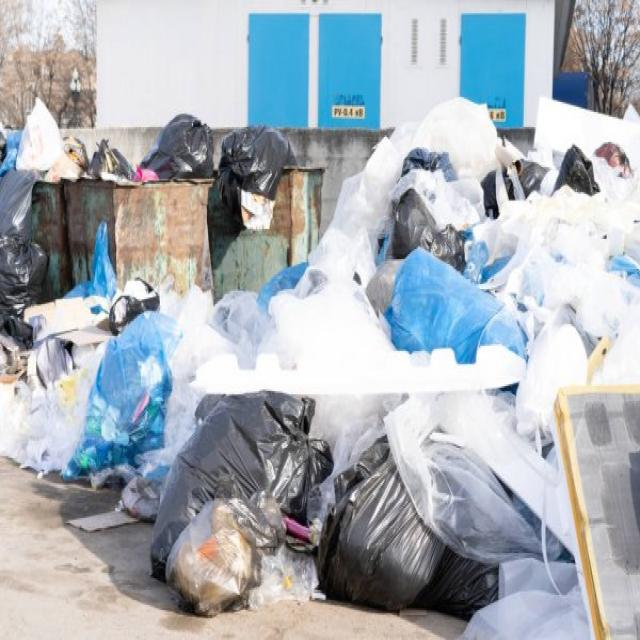garbage: (216, 101, 640, 612)
